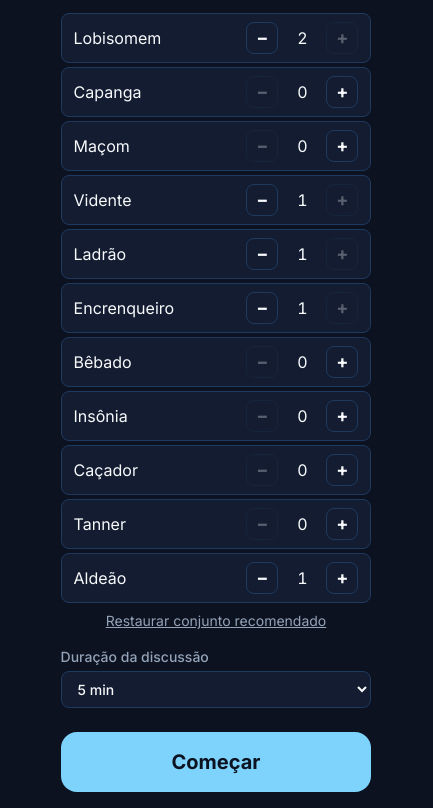
it: OneNightApp › starting a game from config leaves the config screen (enters the night)
(page scrolled)
What coordinates should you click on to do the following:
click the button "Começar"
I would click on:
 (216, 762)
Its box is [61,732,372,792].
(page scrolled)
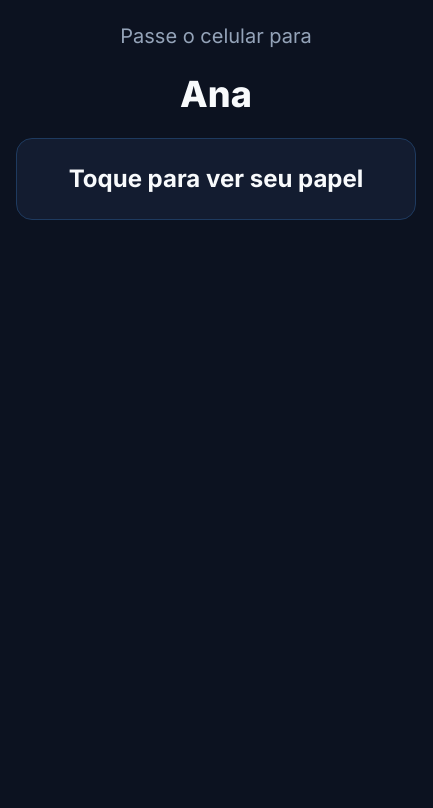
expect the button "Toque para ver seu papel" is shown: met, box [16,138,416,220]
